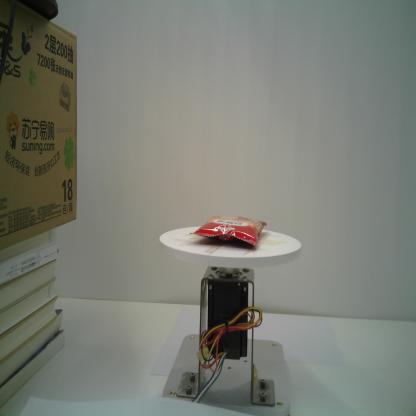Instant Drink: (189, 213, 267, 248)
